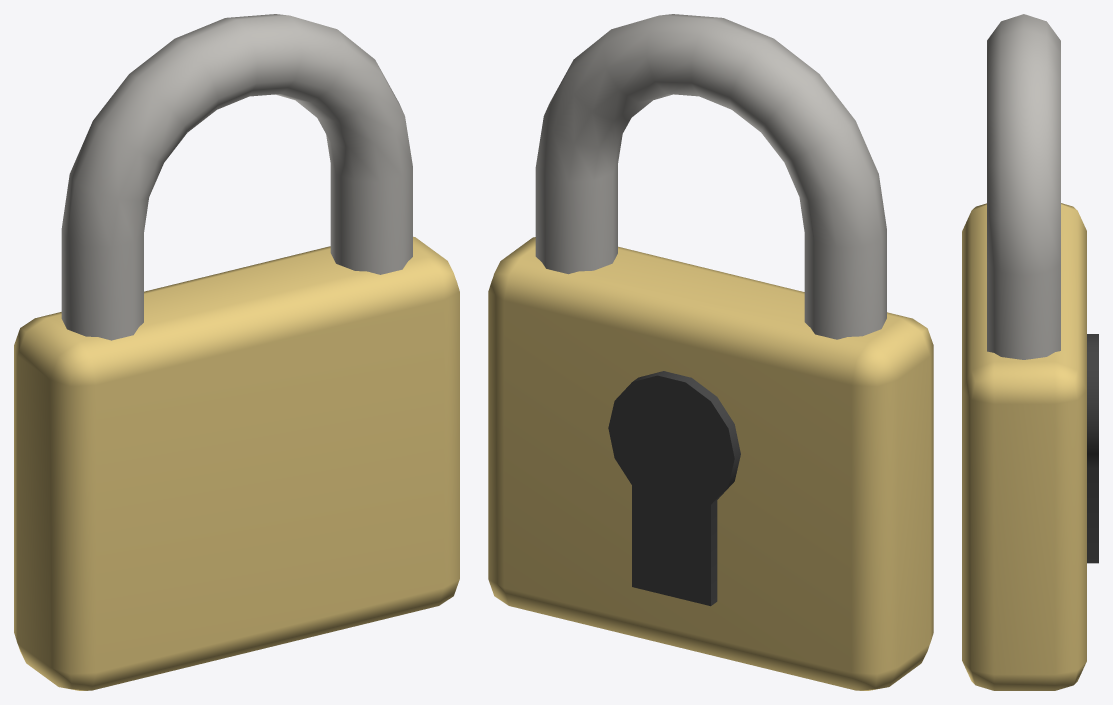
The model's file is Locker.fbx.
The picture shows the model from 3 angles, left to right: view 1: azimuth 30°, elevation 25°; view 2: azimuth 150°, elevation 25°; view 3: azimuth 270°, elevation 25°; orthographic projection. The views are drawn at different scales.
Visible parts, largest first — view 1: Locker, LockerIron; view 2: Locker, LockerIron; view 3: Locker, LockerIron.
Part boxes in pixels (x1=…): Locker: x1=14, y1=236, x2=459, y2=690; LockerIron: x1=61, y1=14, x2=412, y2=340; Locker: x1=488, y1=237, x2=933, y2=690; LockerIron: x1=535, y1=14, x2=886, y2=339; Locker: x1=962, y1=203, x2=1098, y2=690; LockerIron: x1=987, y1=14, x2=1060, y2=359.
Size of the model in its own units: 1 by 1.45 by 0.3097.
